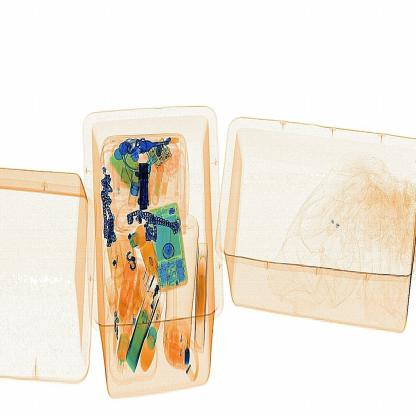scissors: (134, 153, 162, 218)
